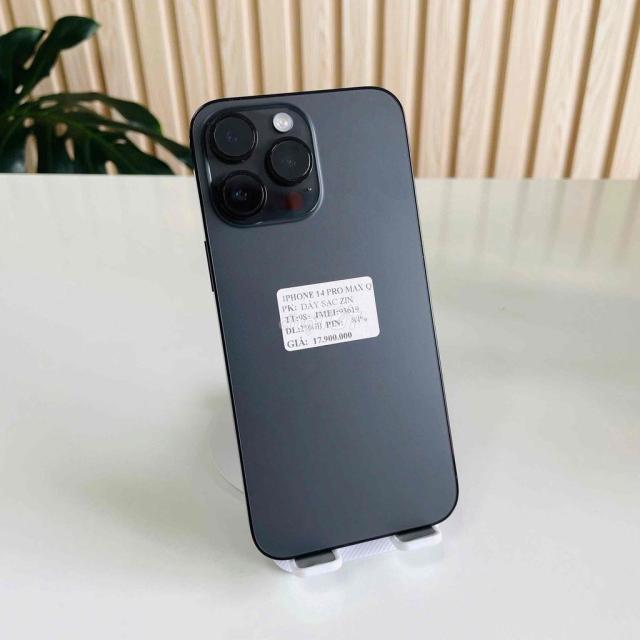gen_14: (191, 80, 466, 556)
